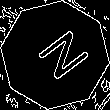N_SW: (23, 24, 87, 86)
